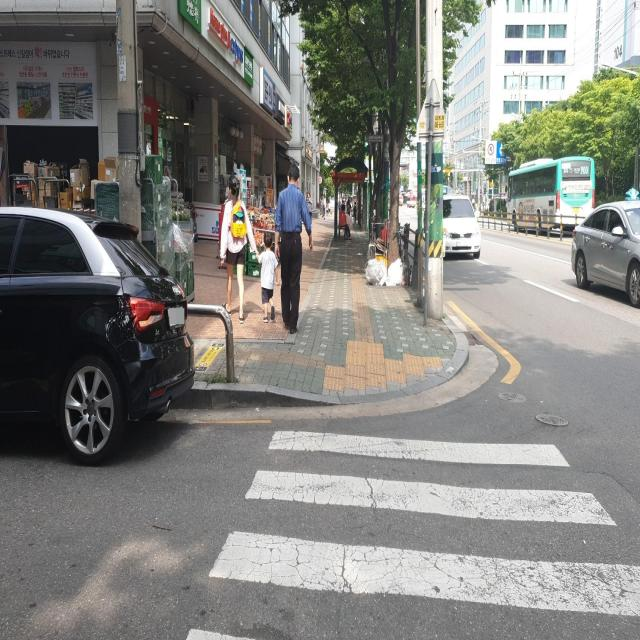횡단보도: (184, 425, 638, 640)
